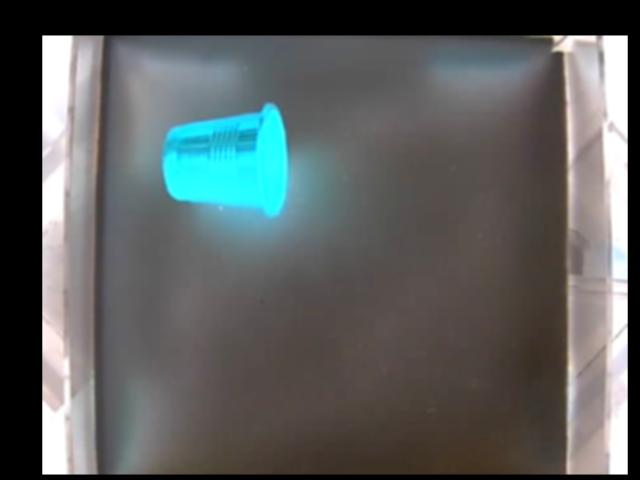Cup: (162, 102, 291, 215)
